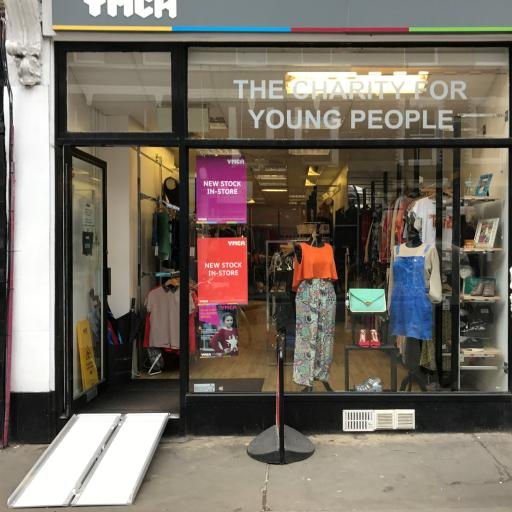ramp: (8, 412, 168, 508)
